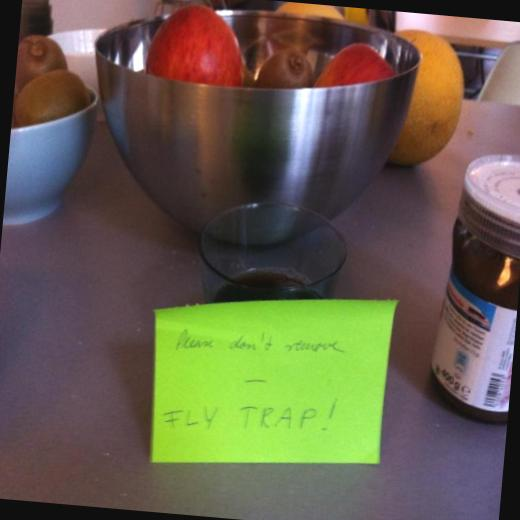Apple: (134, 0, 243, 85), (312, 40, 400, 94)
Grape: (388, 26, 464, 167), (274, 0, 342, 12)
